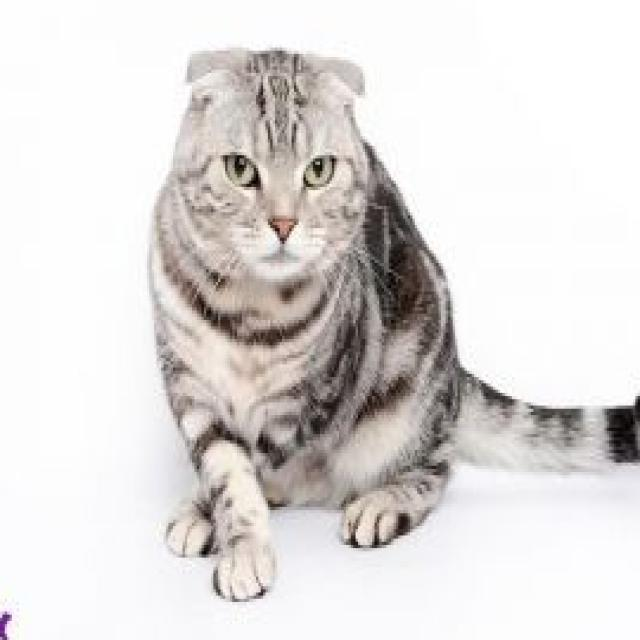Scottish Fold: (140, 32, 640, 605)
